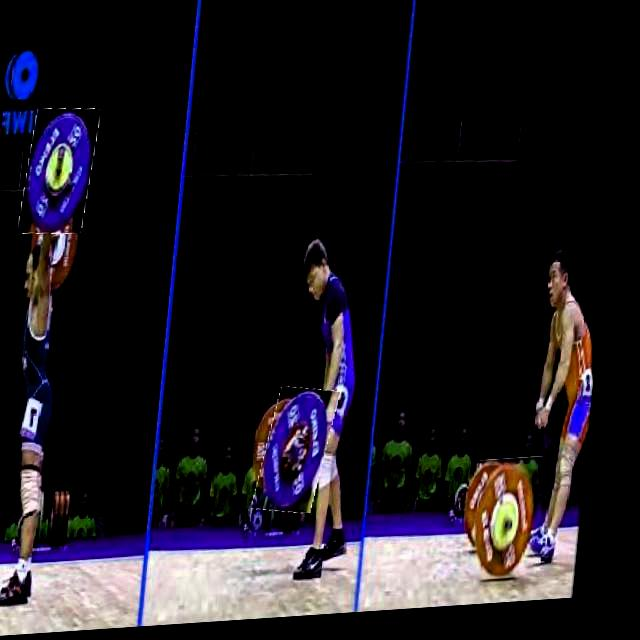barbell: (25, 108, 103, 237), (267, 392, 345, 520), (480, 465, 555, 590)
